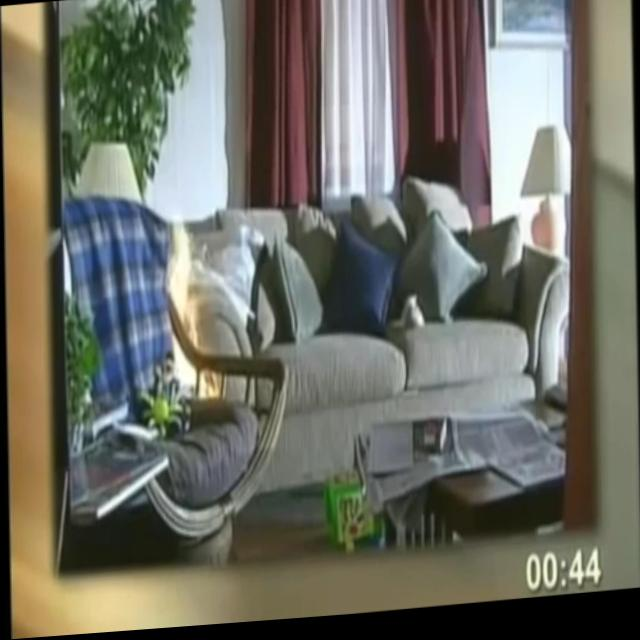fire: (166, 217, 220, 408)
